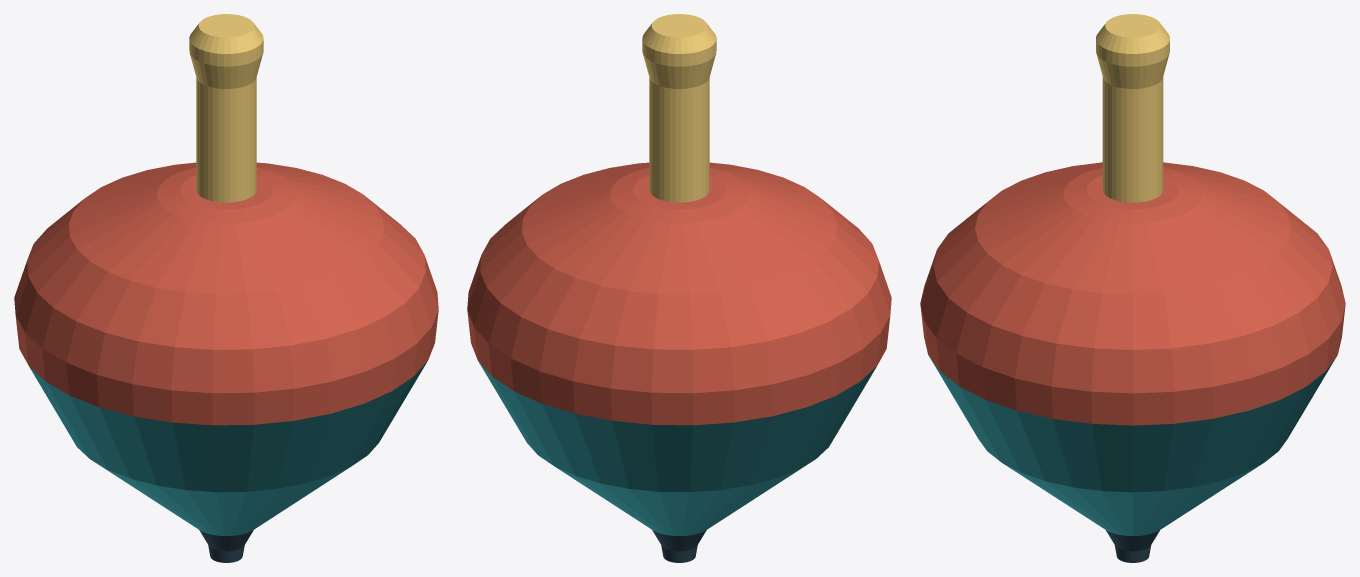
3 renders of one model, left to right at view 1: azimuth 30°, elevation 25°; view 2: azimuth 150°, elevation 25°; view 3: azimuth 270°, elevation 25°, orthographic.
Visible parts, largest first — view 1: Top_ContinuousBellyCone, Top_FingerGrip, Top_ShortGroundPoint; view 2: Top_ContinuousBellyCone, Top_FingerGrip, Top_ShortGroundPoint; view 3: Top_ContinuousBellyCone, Top_FingerGrip, Top_ShortGroundPoint.
Part boxes in pixels (left/top/right/bottom): Top_ContinuousBellyCone: left=14, top=162, right=438, bottom=536; Top_FingerGrip: left=189, top=14, right=263, bottom=202; Top_ShortGroundPoint: left=199, top=530, right=253, bottom=562; Top_ContinuousBellyCone: left=467, top=162, right=891, bottom=536; Top_FingerGrip: left=642, top=14, right=716, bottom=202; Top_ShortGroundPoint: left=652, top=530, right=706, bottom=562; Top_ContinuousBellyCone: left=920, top=162, right=1345, bottom=536; Top_FingerGrip: left=1096, top=14, right=1169, bottom=202; Top_ShortGroundPoint: left=1106, top=530, right=1159, bottom=562.
Size of the model in its own units: 0.0916 by 0.126 by 0.0916.
